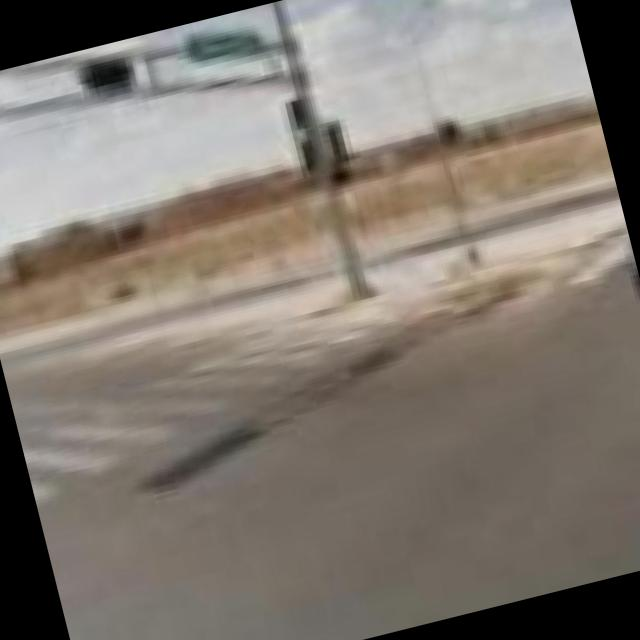zebra: (20, 307, 423, 516)
